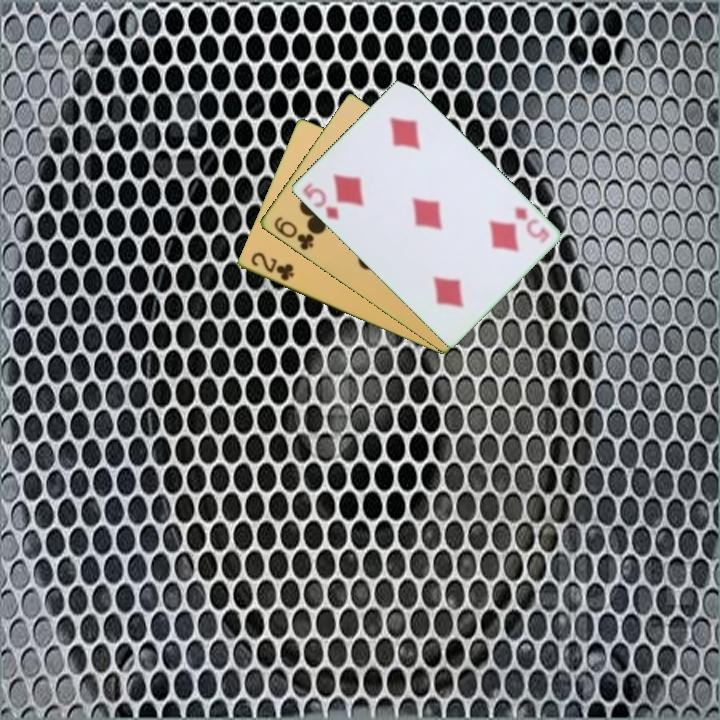2c: (247, 249, 297, 284)
5d: (299, 179, 341, 223), (511, 203, 552, 247)
6c: (270, 213, 317, 253)
